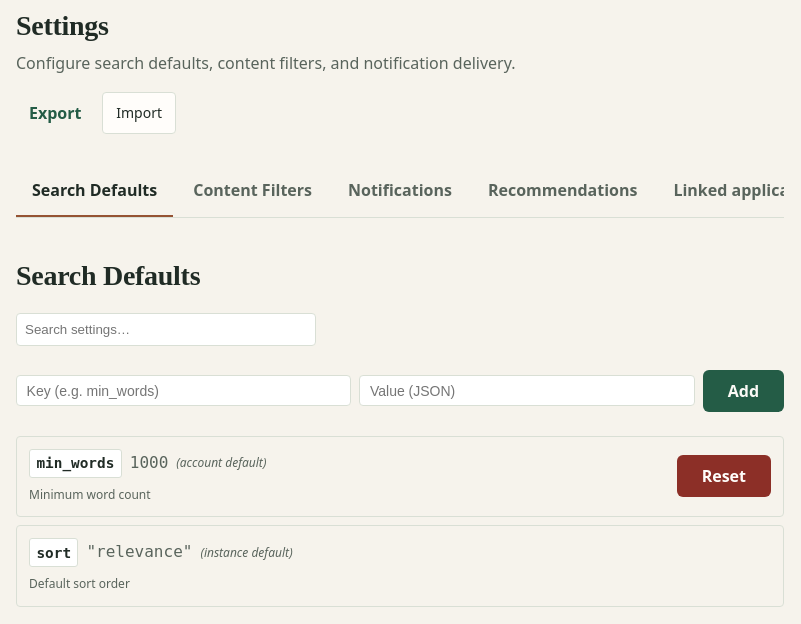
Test: Settings › supports client-side settings search
Check: the text "min_words" is shown, box [29,449,122,478]
Step 1. Type "min_words" into the search field with placeholder "Search settings…" → point(166, 329), box [16,313,316,346]
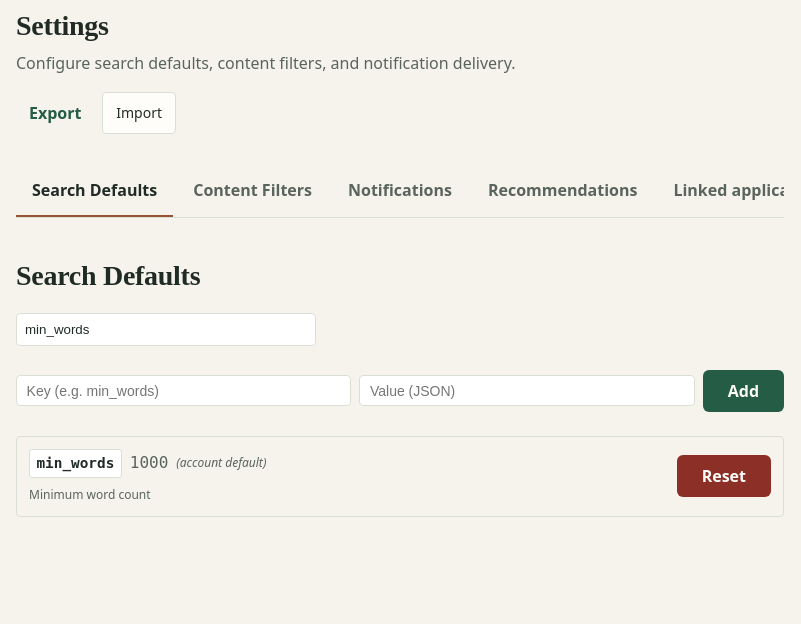
Check: the text "min_words" is shown, box [29,449,122,478]
Check: the text "sort" is gone
